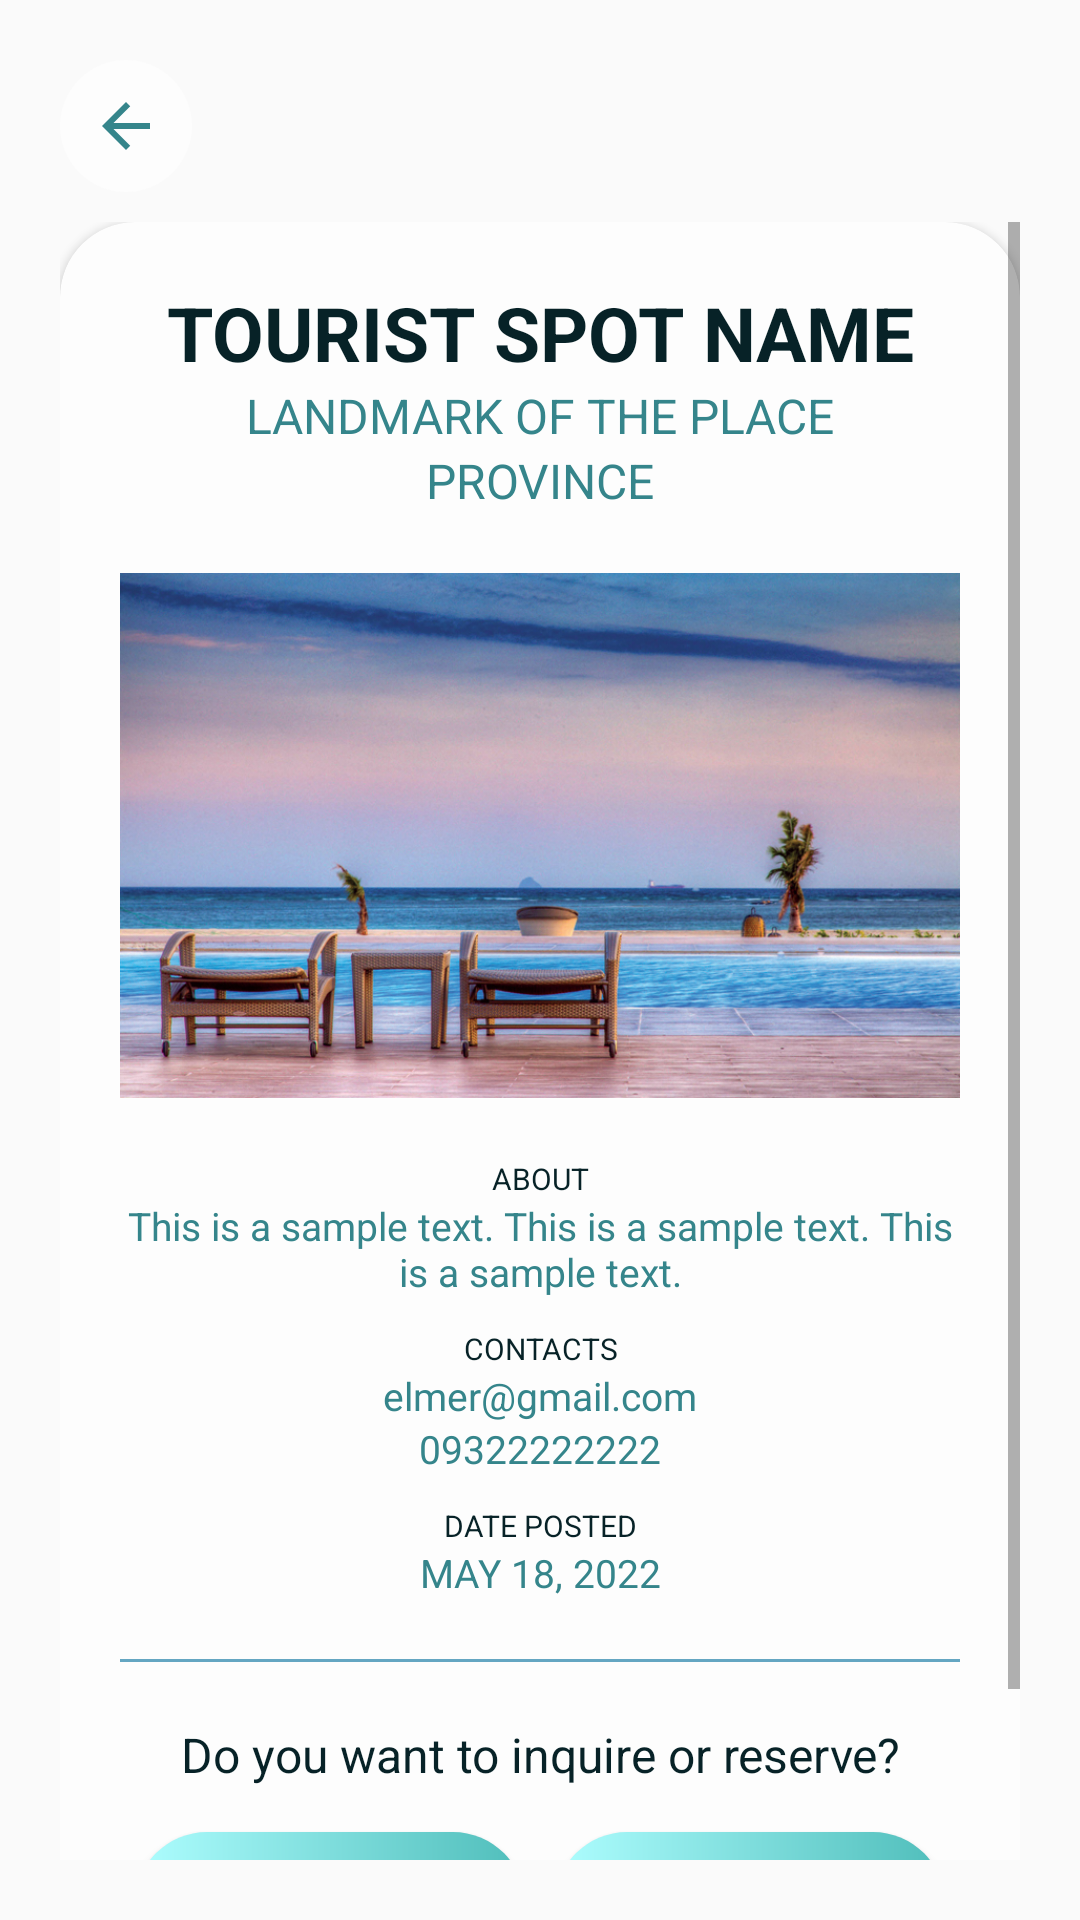

Named icons in this screenshot (1080x1920) and their bounding boxes, (x1, y1, x2, y2):
back arrow: (102, 102, 150, 150)
